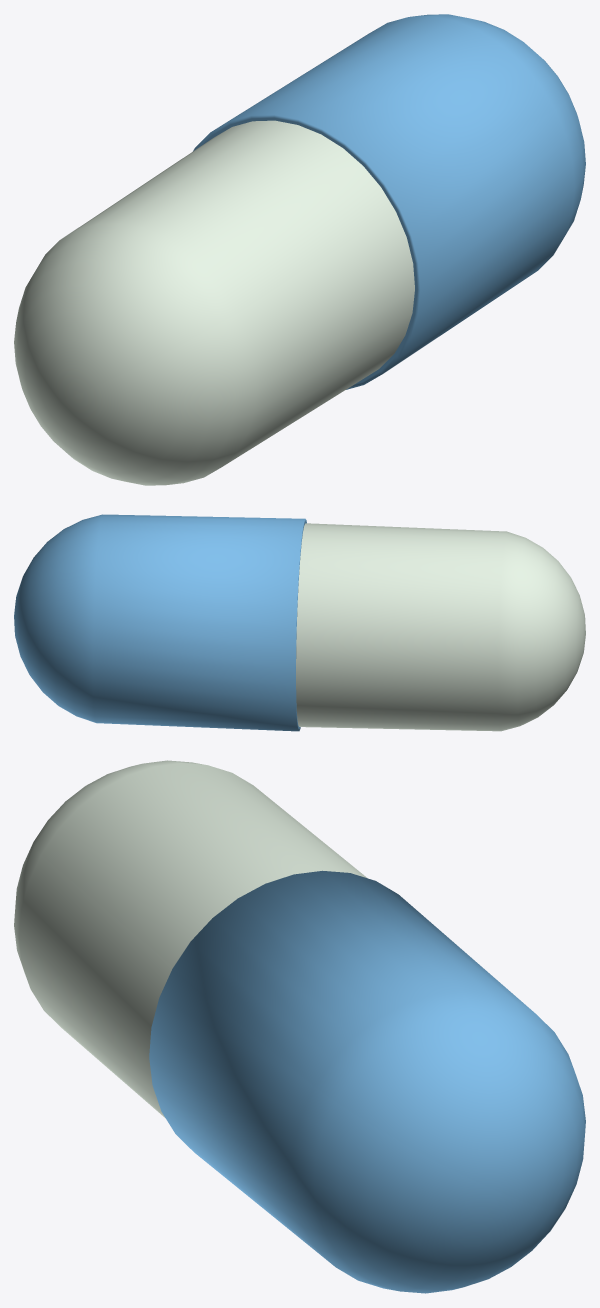
File: medicine-cap.fbx
The picture shows the model from 3 angles, top to bottom: view 1: azimuth 30°, elevation 25°; view 2: azimuth 150°, elevation 25°; view 3: azimuth 270°, elevation 25°; orthographic projection. The views are drawn at different scales.
Parts seen in each view (by area): view 1: newcap2, newcap1; view 2: newcap1, newcap2; view 3: newcap1, newcap2.
Boxes of the visible parts, box(x1,y1,x2,y2) form: newcap2: box(14, 120, 414, 485); newcap1: box(193, 14, 585, 389); newcap1: box(14, 514, 306, 731); newcap2: box(296, 523, 585, 731); newcap1: box(149, 870, 585, 1293); newcap2: box(14, 760, 367, 1117).
Size of the model in its own units: 525 by 209 by 364.
